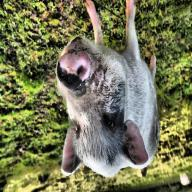boar: (55, 0, 160, 179), (180, 173, 191, 185)
